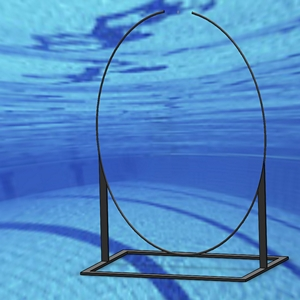circle: (77, 7, 289, 283)
